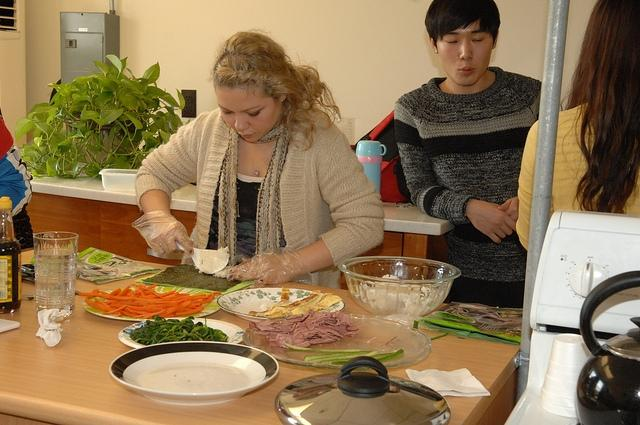carrot: (110, 302, 178, 312), (85, 295, 114, 312), (130, 284, 163, 298), (140, 308, 168, 318), (78, 292, 120, 298), (171, 294, 206, 301), (160, 305, 180, 317), (94, 298, 113, 310), (175, 308, 202, 316), (194, 294, 214, 304), (110, 302, 152, 306), (107, 298, 135, 304), (116, 286, 130, 296), (130, 310, 155, 315), (119, 310, 137, 316), (135, 287, 146, 296), (110, 288, 122, 296), (144, 306, 165, 310), (120, 289, 132, 296), (147, 284, 158, 290), (154, 301, 175, 304), (163, 294, 178, 298), (145, 294, 159, 298), (184, 298, 193, 302), (100, 291, 108, 295), (144, 292, 153, 295), (184, 308, 192, 311), (213, 292, 221, 294), (195, 306, 202, 307)
